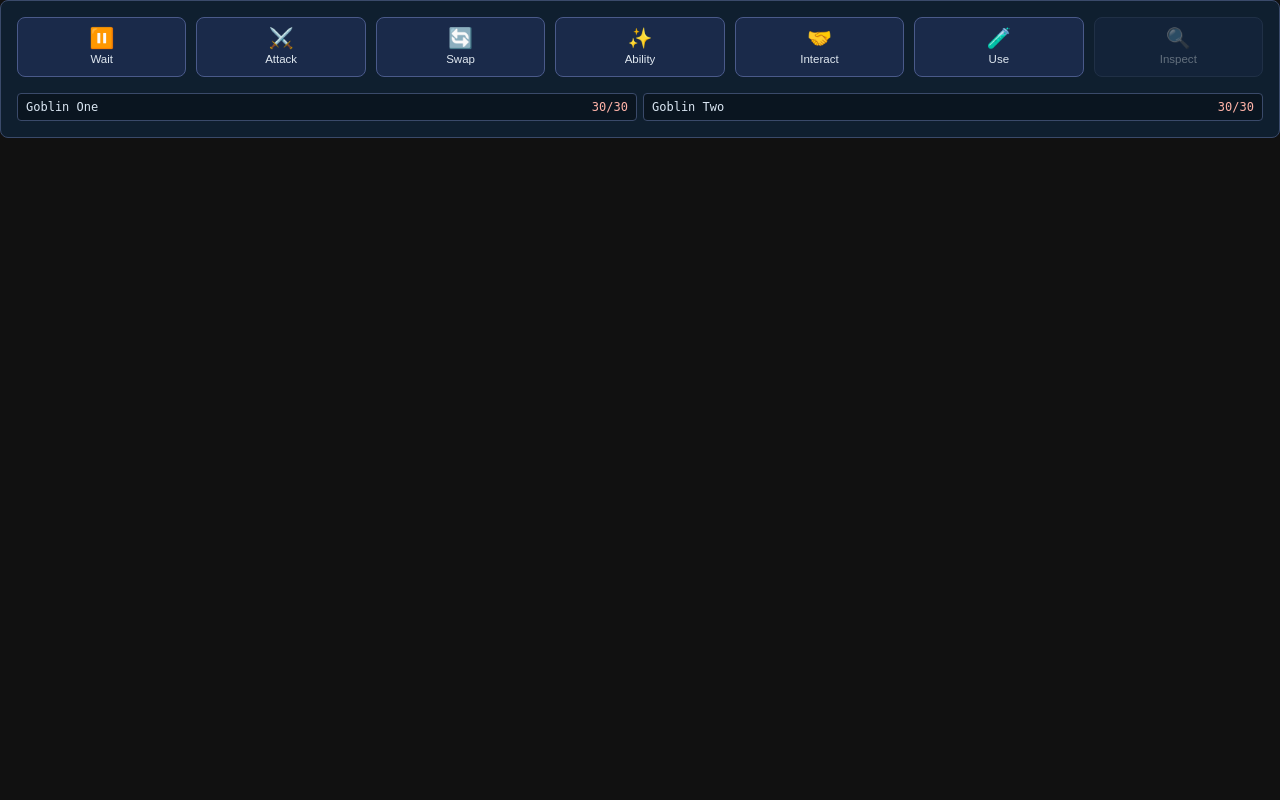
it: UnifiedActionPanel › Dropdown Actions › opens attack dropdown when multiple enemies in range
Click the button "⚔️ Attack": [281, 47] box [196,17,366,76]
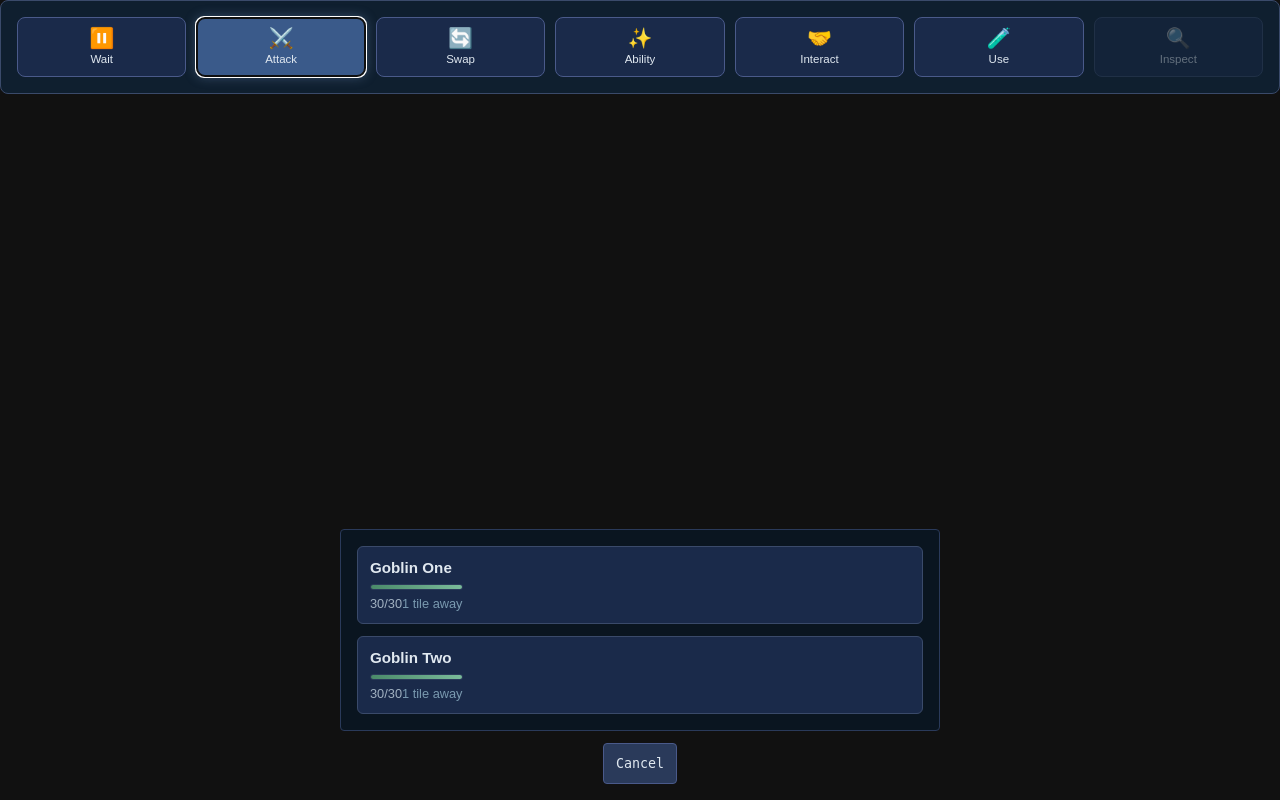
Now the dialog is shown, box [340,529,940,784]
